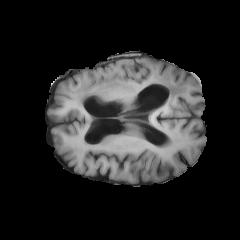glioma: (77, 57, 188, 103)
